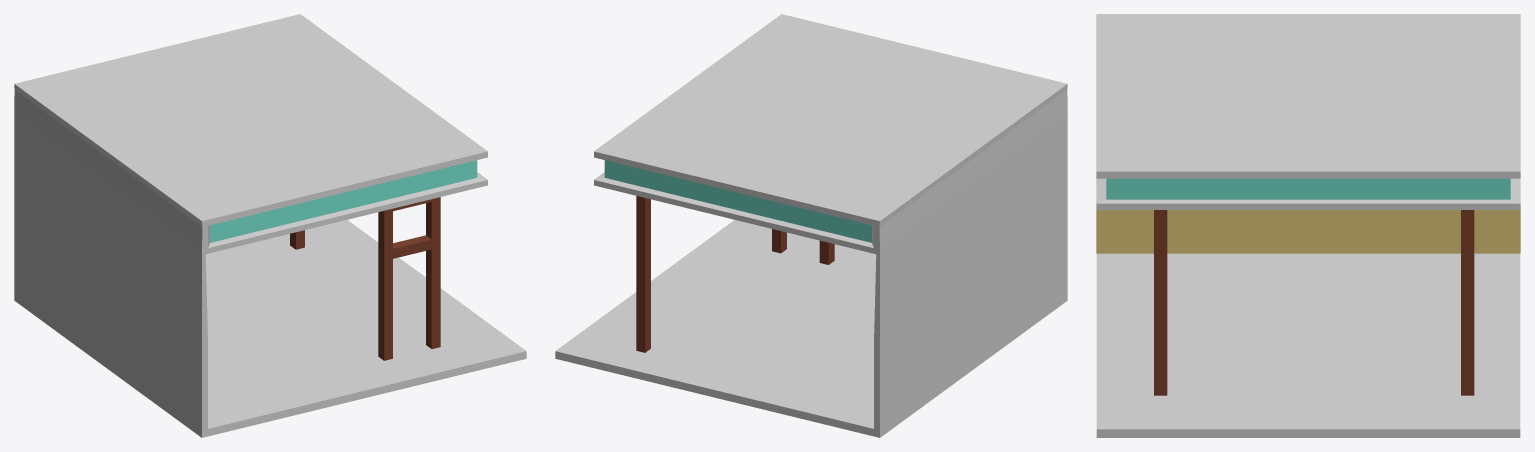
The model's file is Low Poly Beach Booth.fbx.
3 renders of one model, left to right at view 1: azimuth 30°, elevation 25°; view 2: azimuth 150°, elevation 25°; view 3: azimuth 270°, elevation 25°, orthographic. The views are drawn at different scales.
Visible parts, largest first — view 1: Cube.002, Cube, Cube.006, Cube.005; view 2: Cube.002, Cube, Cube.004; view 3: Cube.002, Cube, Cube.004, Cube.005.
Boxes of the visible parts, <box> form: Cube.002: <box>14,14,487,430</box>; Cube: <box>14,220,526,437</box>; Cube.006: <box>378,199,431,360</box>; Cube.005: <box>426,197,440,348</box>; Cube.002: <box>594,14,1067,430</box>; Cube: <box>555,220,1067,437</box>; Cube.004: <box>636,196,650,352</box>; Cube.002: <box>1096,14,1520,253</box>; Cube: <box>1096,253,1520,437</box>; Cube.004: <box>1461,210,1474,395</box>; Cube.005: <box>1154,210,1167,395</box>.
Bounding box in the file's own units: 2789 × 1779 × 2792.
